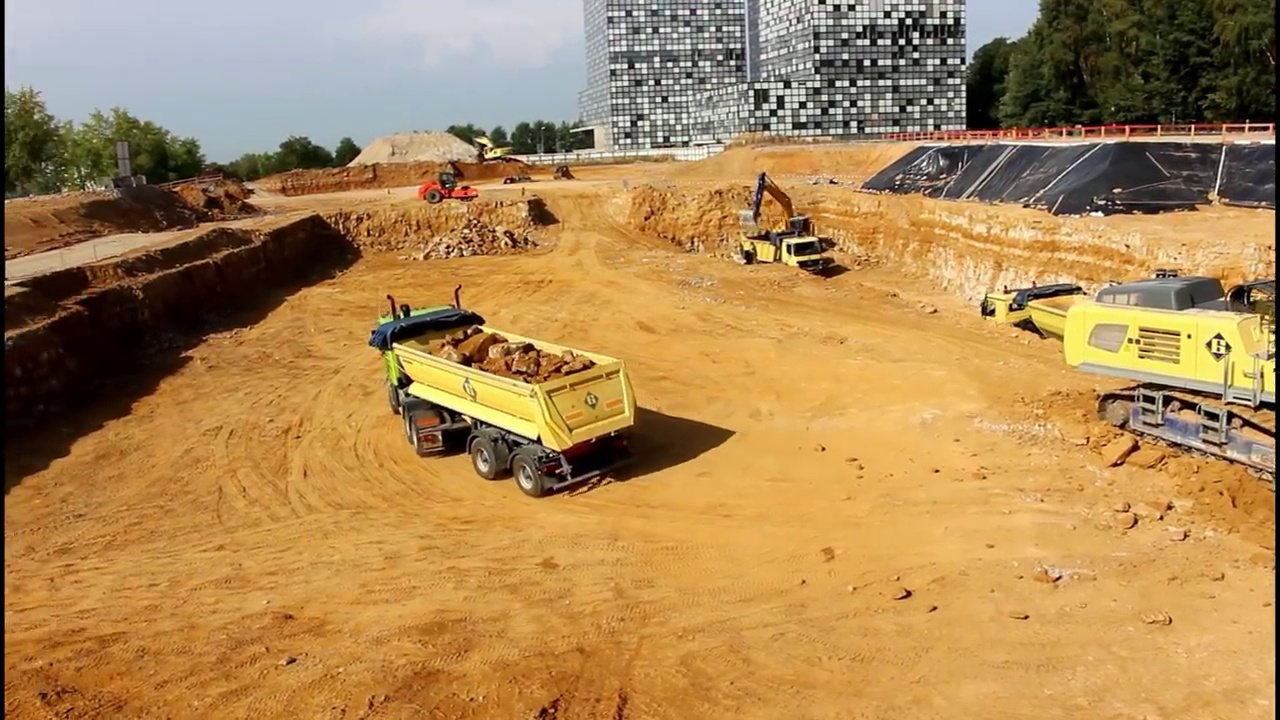compactor: (417, 169, 482, 207)
excavator: (1060, 258, 1280, 481), (733, 167, 824, 262), (465, 128, 517, 167)
truck: (365, 279, 644, 499), (979, 276, 1184, 390), (744, 227, 827, 289)
